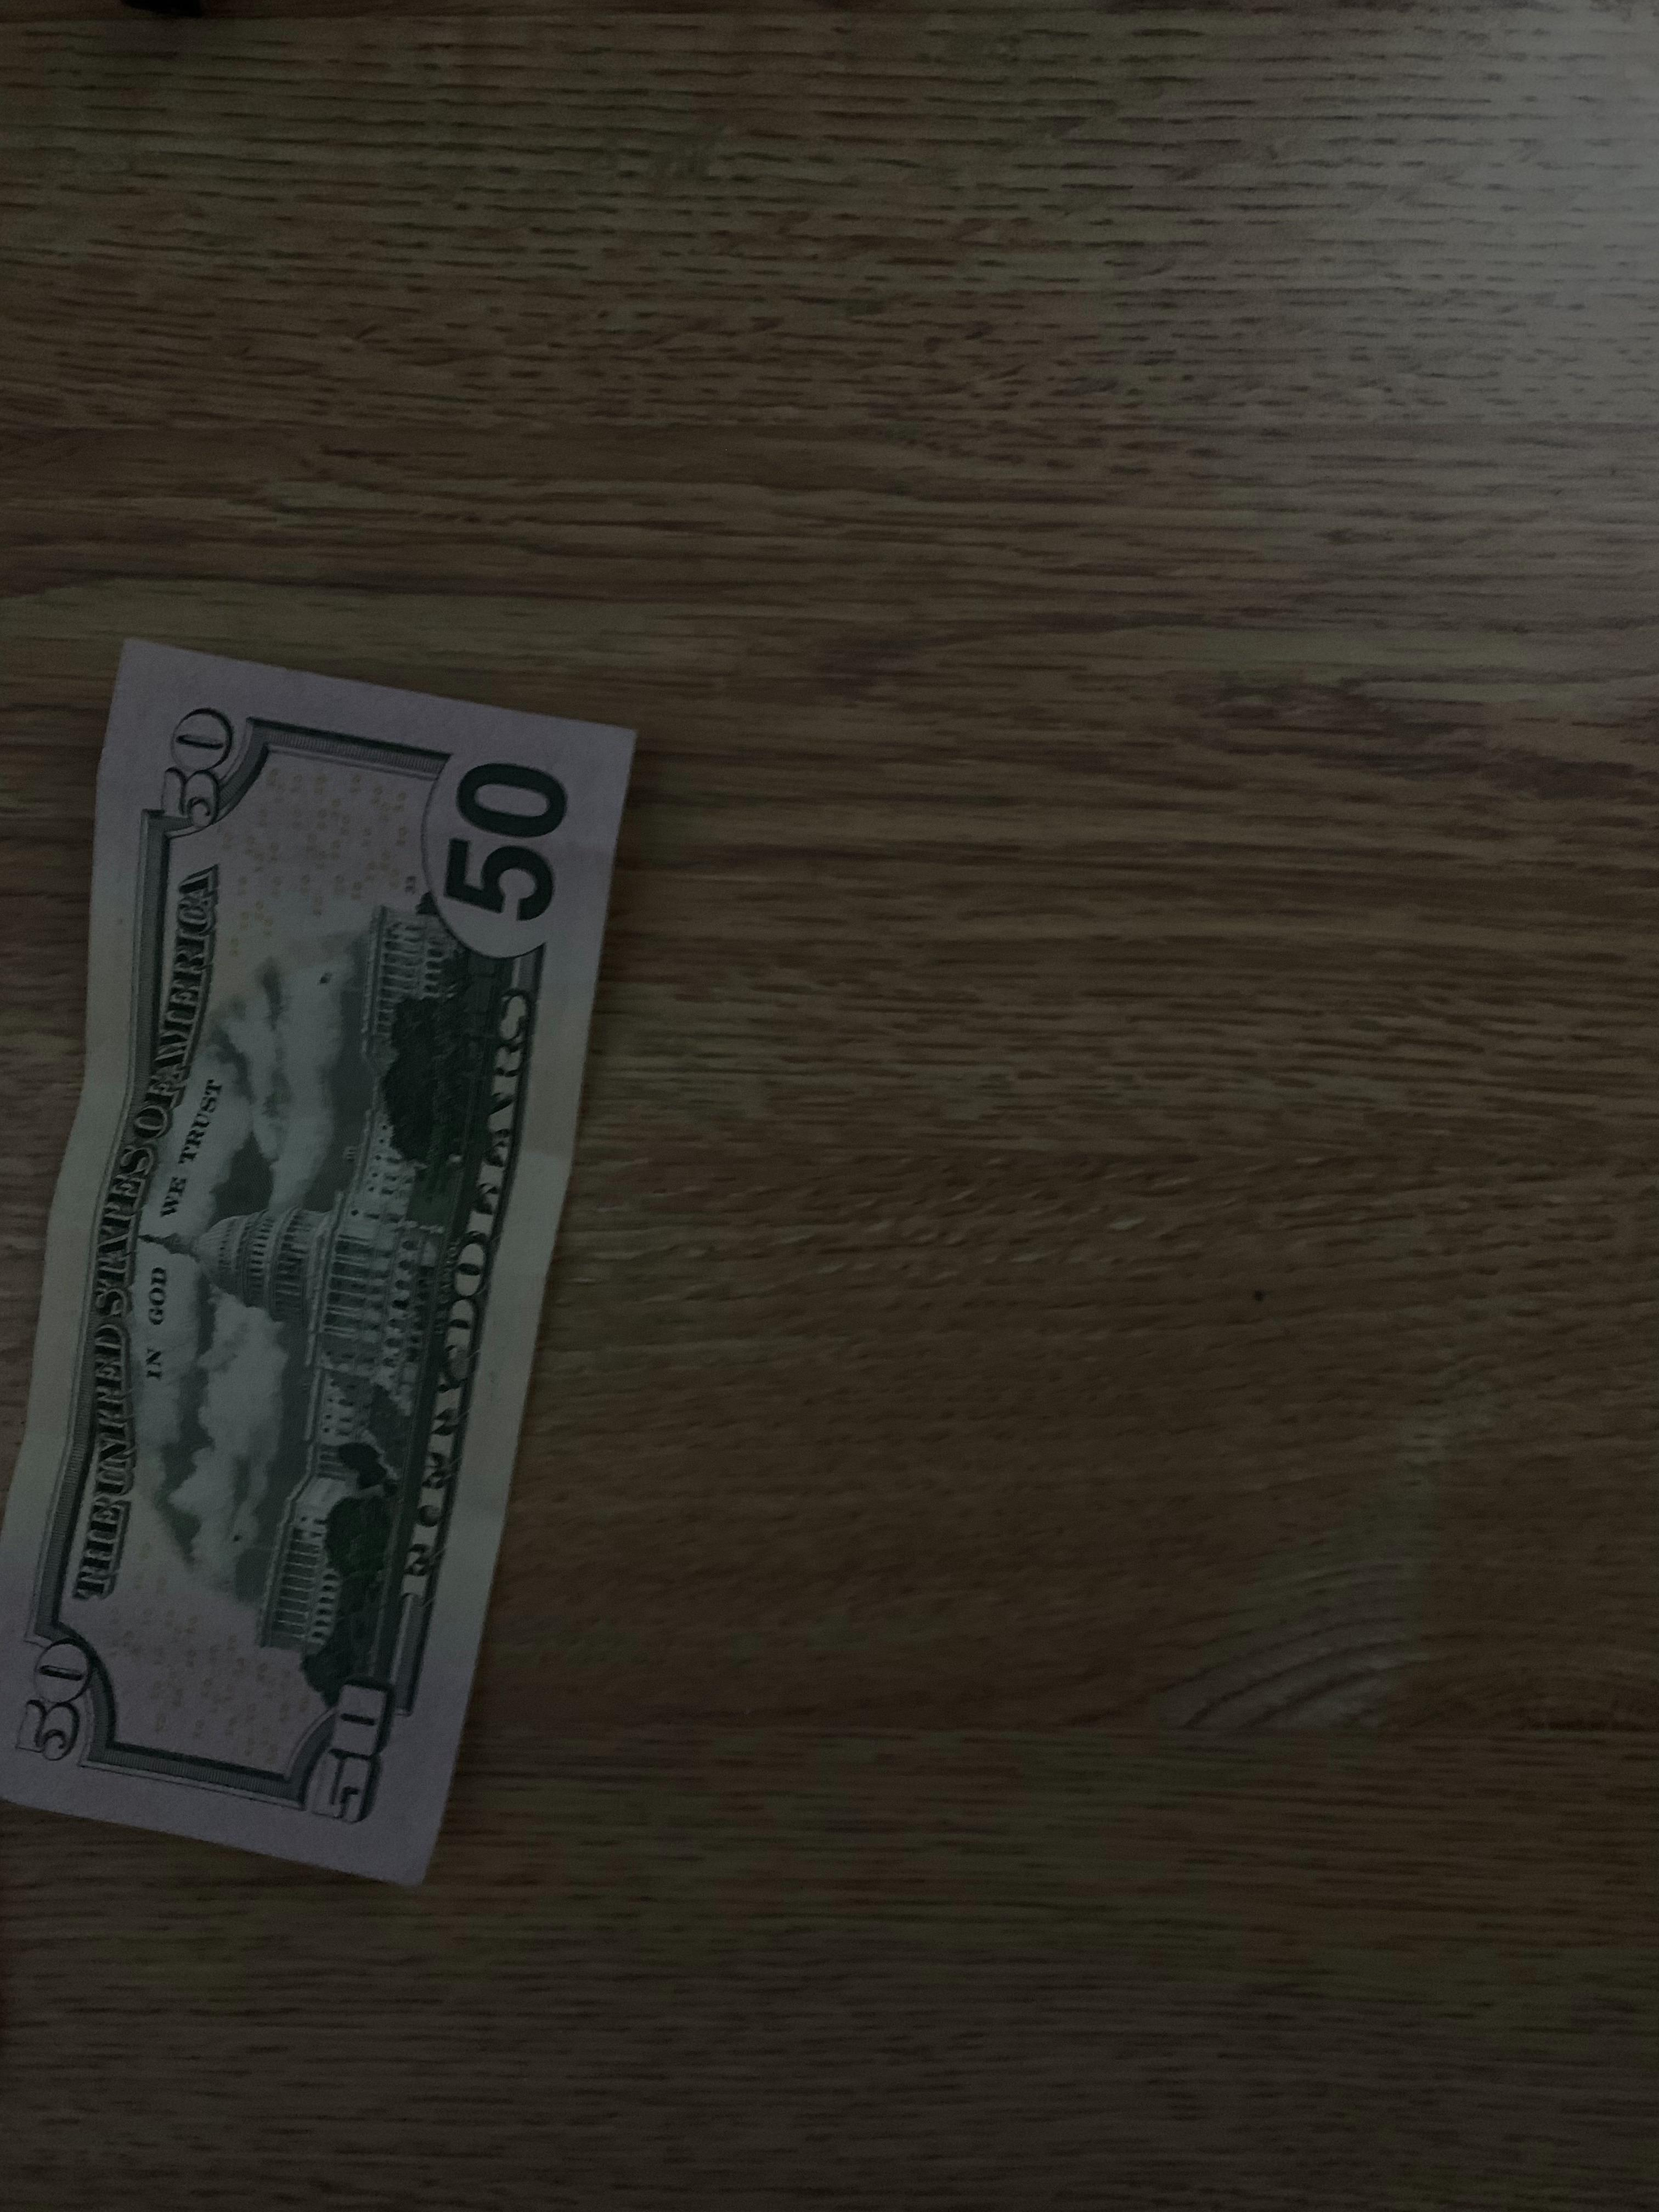FiftyBill: (2, 634, 638, 1892)
